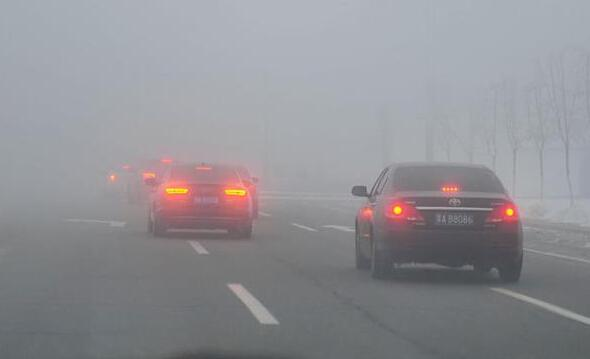car: (347, 159, 525, 285), (147, 159, 256, 242), (176, 160, 262, 224), (127, 159, 188, 208)
